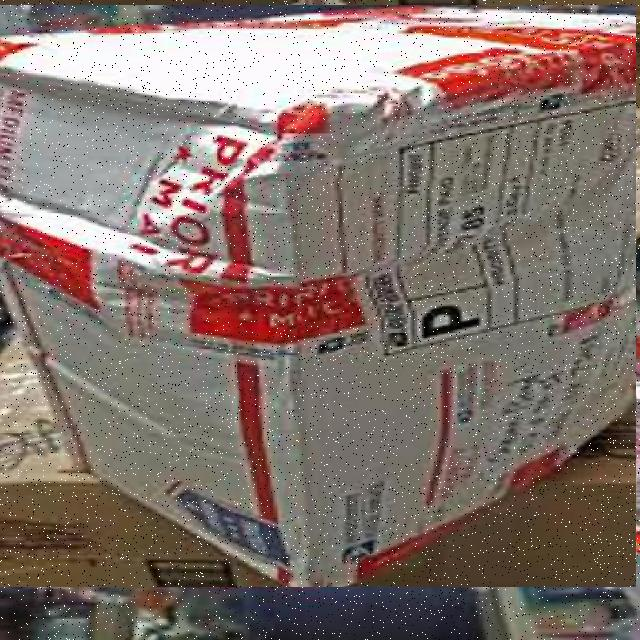defect: (0, 5, 636, 587)
